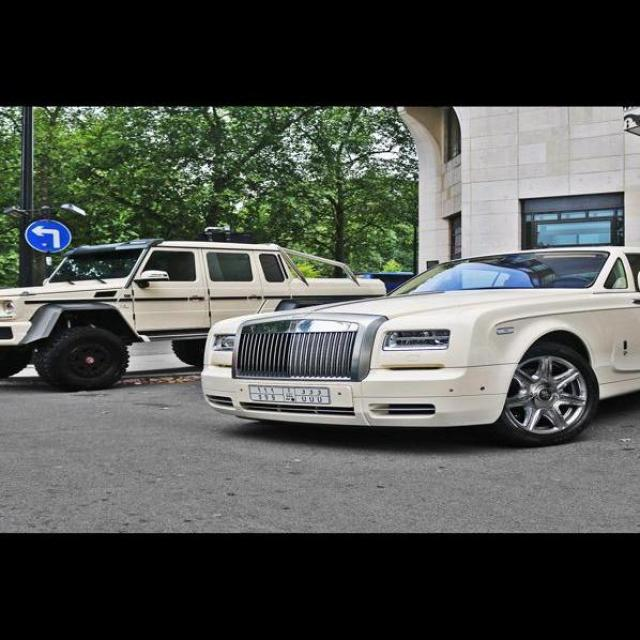license_plate: (249, 386, 331, 404)
